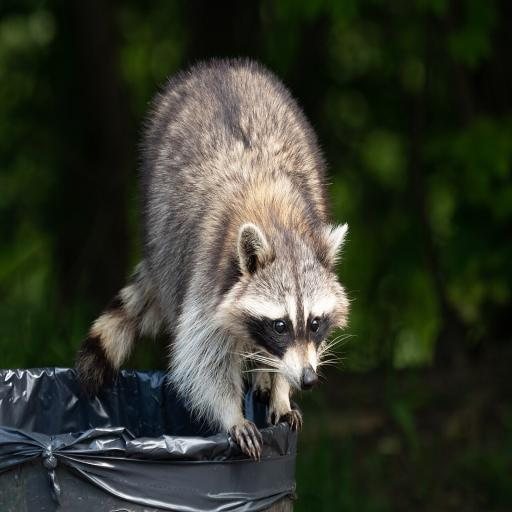raccoon: (77, 60, 348, 458)
